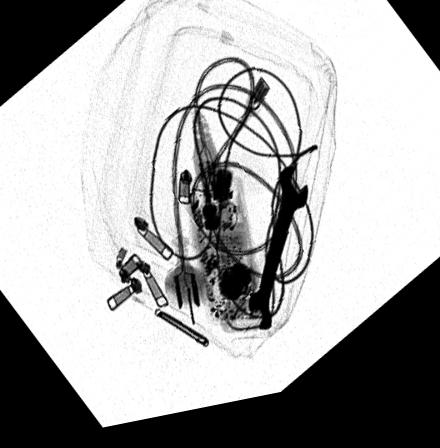Wrench: (247, 175, 309, 340)
